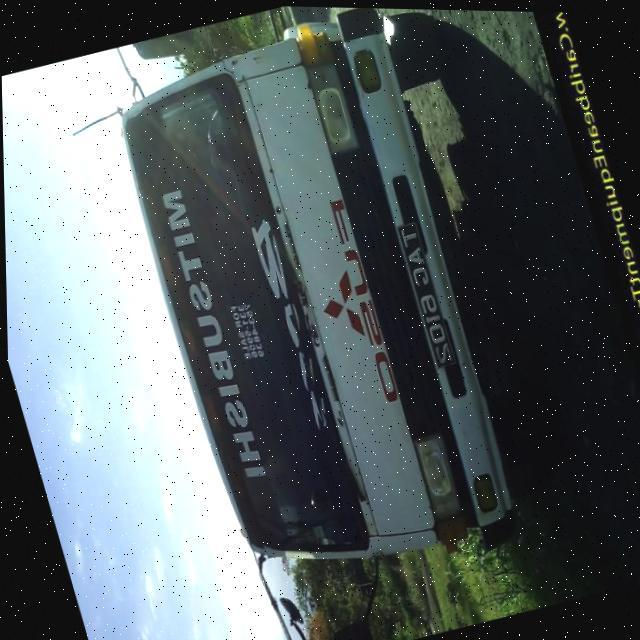truck: (97, 2, 581, 619)
